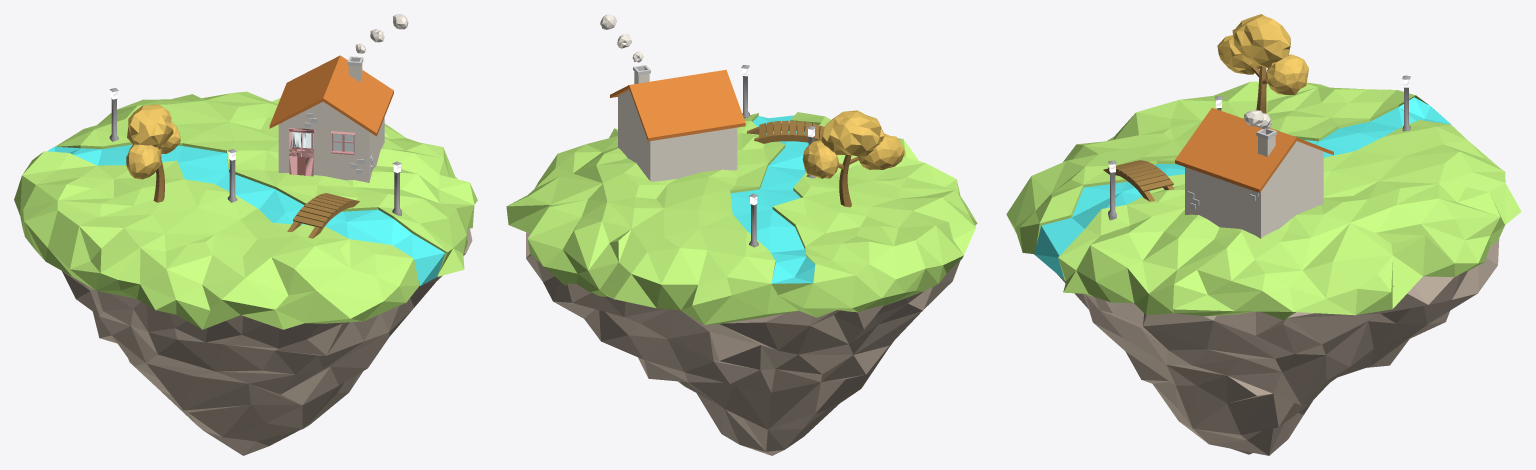
Rendered from floating_island.glb.
3 renders of one model, left to right at view 1: azimuth 30°, elevation 25°; view 2: azimuth 150°, elevation 25°; view 3: azimuth 270°, elevation 25°, orthographic. The views are drawn at different scales.
Visible parts, largest first — view 1: grass, bottom_2, roof, walls, Sphere_2, Door, Sphere_2_3, window; view 2: grass, bottom_2, roof, walls, Sphere_2, Sphere_1_2, Sphere_2_3; view 3: grass, bottom_2, walls, roof, Sphere_2, Sphere_1_2, Sphere_2_3.
Boxes of the visible parts, box(x1,y1,x2,y2) form: grass: box(14, 91, 477, 329); bottom_2: box(62, 228, 472, 455); roof: box(269, 55, 393, 136); walls: box(278, 101, 384, 182); Sphere_2: box(127, 104, 173, 148); Door: box(288, 127, 315, 176); Sphere_2_3: box(126, 144, 160, 179); window: box(331, 131, 355, 154); grass: box(506, 112, 977, 324); bottom_2: box(526, 216, 960, 455); roof: box(610, 69, 745, 141); walls: box(618, 90, 737, 181); Sphere_2: box(821, 110, 884, 156); Sphere_1_2: box(802, 140, 838, 178); Sphere_2_3: box(857, 133, 905, 169); grass: box(1006, 81, 1521, 320); bottom_2: box(1057, 239, 1499, 455); walls: box(1185, 141, 1323, 238); roof: box(1175, 108, 1333, 192); Sphere_2: box(1232, 14, 1290, 67); Sphere_1_2: box(1265, 54, 1308, 94); Sphere_2_3: box(1217, 35, 1259, 74).
Bounding box in the file's own units: 193 × 186 × 203.
